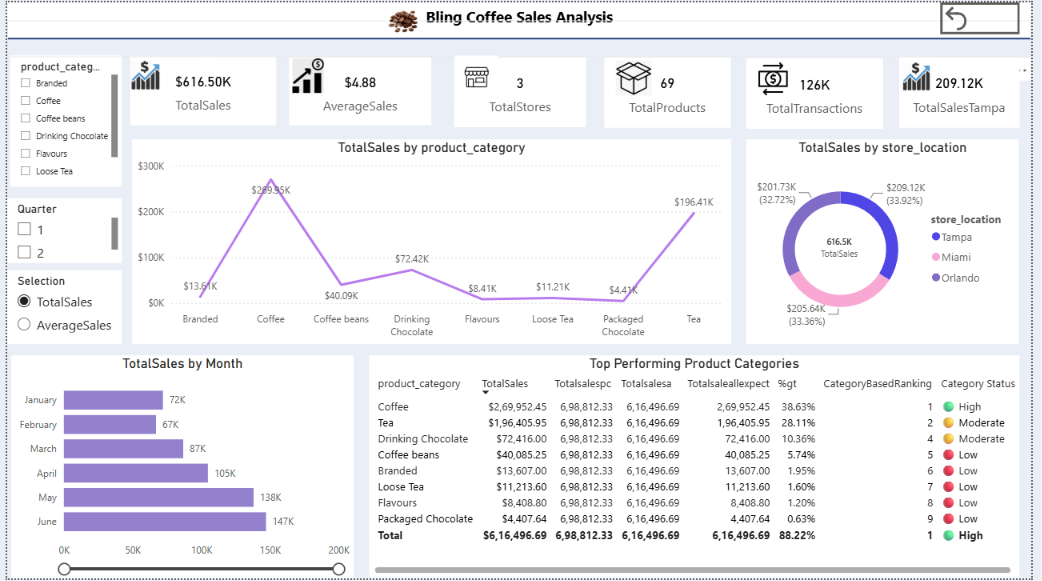

The dashboard page shown, as its layout file describes it:
{"tool":"powerbi","page":{"name":"Page 1","canvas":[1280,720],"ordinal":0},"visuals":[{"type":"card","title":"Total Sales","fields":{"Values":["01Measure.TotalSales"]},"box":[156.3,67.5,158.7,87.6],"z":0},{"type":"card","title":"Average Sales","fields":{"Values":["01Measure.AverageSales"]},"box":[326.9,67.5,139.7,88.8],"z":1000},{"type":"card","title":"Total Stores","fields":{"Values":["01Measure.TotalStores"]},"box":[487.9,68.7,132.6,87.6],"z":2000},{"type":"card","title":"Total Products","fields":{"Values":["01Measure.TotalProduct"]},"box":[639.5,68.7,149.2,88.8],"z":3000},{"type":"tableEx","title":"Top Performing Product Categories","fields":{"Values":["product.product_category","01Measure.TotalSales","01Measure.Totalsalespc","01Measure.Totalsalesa","01Measure.Totalsaleallexpect","01Measure.%gt","01Measure.CategoryBasedRanking","01Measure.Category Status"]},"box":[454,441.8,811.3,277.8],"z":4000},{"type":"slicer","fields":{"Values":["Date.Quarter"]},"box":[0,244.7,143.2,80.8],"z":5000},{"type":"slicer","fields":{"Values":["product.product_category"]},"box":[3.7,66.1,139.5,164],"z":6000},{"type":"lineChart","fields":{"Category":["product.product_category","Date.transaction_date.Variation.Date Hierarchy.Year","Date.transaction_date.Variation.Date Hierarchy.Quarter","Date.transaction_date.Variation.Date Hierarchy.Month","Date.transaction_date.Variation.Date Hierarchy.Day"],"Y":["01Measure.TotalSales"]},"box":[156.3,171.7,748.5,255.8],"z":7000},{"type":"barChart","fields":{"Y":["01Measure.TotalSales"],"Category":["Date.transaction_date.Variation.Date Hierarchy.Month"]},"box":[4.9,441.8,428.3,277.8],"z":8000},{"type":"textbox","box":[0,0,1280.2,45],"z":10000},{"type":"donutChart","fields":{"Y":["01Measure.TotalSales"],"Category":["Store.store_location"]},"box":[923.8,171.7,341.1,255.8],"z":11000},{"type":"cardVisual","fields":{"Data":["01Measure.TotalSales"]},"box":[987.5,276.6,106.5,61.2],"z":12000},{"type":"shape","box":[0,22.8,1280,45.5],"z":13000},{"type":"card","title":"Total Products","fields":{"Values":["01Measure.TotalProduct"]},"box":[803,67.5,148,87.6],"z":14000},{"type":"card","title":"Total Transactions","fields":{"Values":["01Measure.TotalTransactions"]},"box":[967.6,66.3,142.1,88.8],"z":15000},{"type":"card","title":"Total Sales Tampa","fields":{"Values":["01Measure.TotalSalesTampa"]},"box":[1128.6,68.7,136.2,88.8],"z":16000},{"type":"actionButton","box":[1166.2,0,99.6,39.8],"z":17000},{"type":"slicer","fields":{"Values":["Selection.Selection"]},"box":[0,335.3,143.2,91.8],"z":17001}]}

Visuals, with their boxes in screenshot pixels (x1, y1, x2, y2), scaled from the page's 1280x720 canvas onto the 1042x581 screenshot:
"Total Sales" card: region(127, 54, 256, 125)
"Average Sales" card: region(266, 54, 380, 126)
"Total Stores" card: region(397, 55, 505, 126)
"Total Products" card: region(521, 55, 642, 127)
"Top Performing Product Categories" tableEx: region(370, 357, 1030, 580)
slicer - Date.Quarter: region(0, 197, 117, 263)
slicer - product.product_category: region(3, 53, 117, 186)
lineChart - product.product_category x Date.transaction_date.Variation.Date Hierarchy.Year: region(127, 139, 737, 345)
barChart - 01Measure.TotalSales x Date.transaction_date.Variation.Date Hierarchy.Month: region(4, 357, 353, 580)
textbox: region(0, 0, 1041, 36)
donutChart - 01Measure.TotalSales x Store.store_location: region(752, 139, 1030, 345)
cardVisual - 01Measure.TotalSales: region(804, 223, 891, 273)
shape: region(0, 18, 1041, 55)
"Total Products" card: region(654, 54, 774, 125)
"Total Transactions" card: region(788, 54, 903, 125)
"Total Sales Tampa" card: region(919, 55, 1030, 127)
actionButton: region(949, 0, 1030, 32)
slicer - Selection.Selection: region(0, 271, 117, 345)
